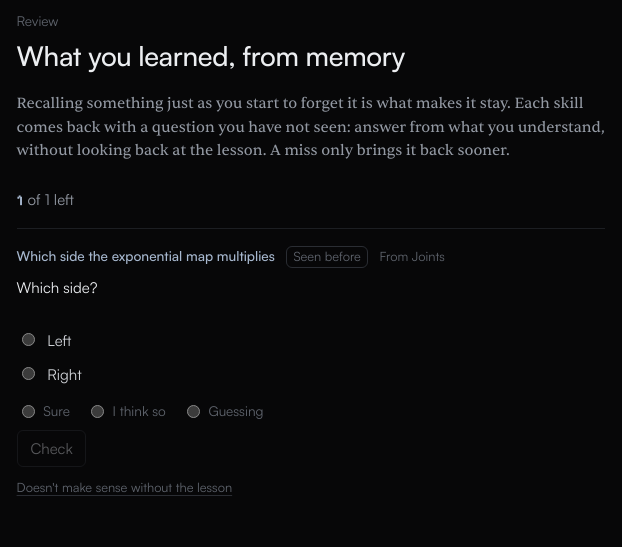
Test: Review › flags a question whose answer could not be saved, with no answer to withdraw
Click the radio button labelled "Right". click: (28, 374)
box: [22,367,35,380]
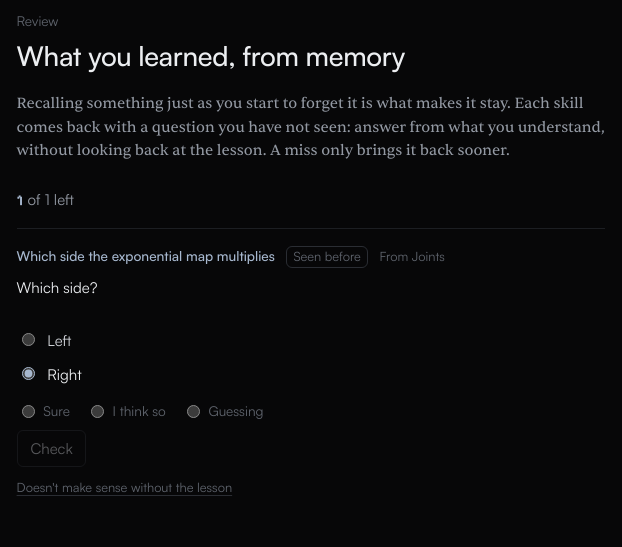
Click the radio button labelled "Sure". click: (28, 412)
box: [22,405,35,418]
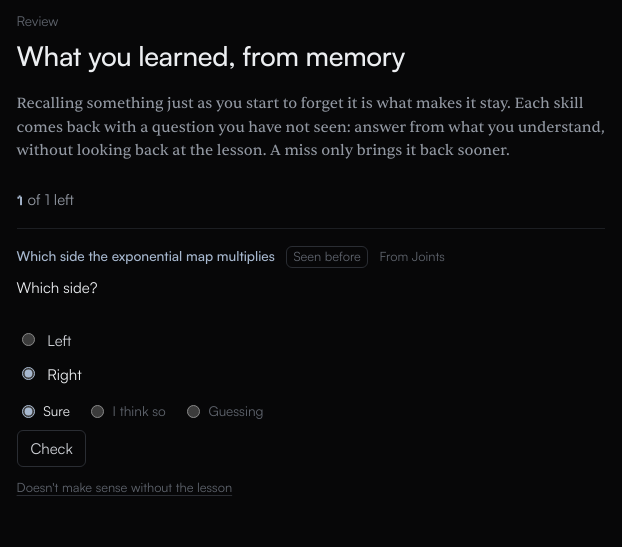
Click the button "Check". click: (52, 448)
box: [17,430,86,467]
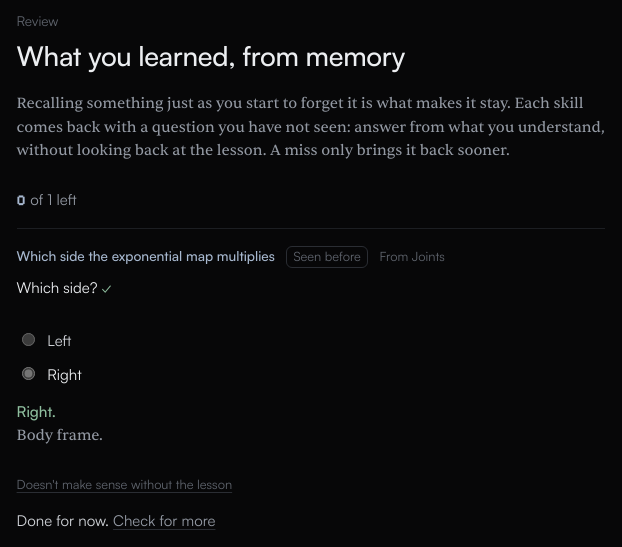
Click the button "Doesn't make sense without the lesson". click: (124, 484)
box: [17,475,232,494]
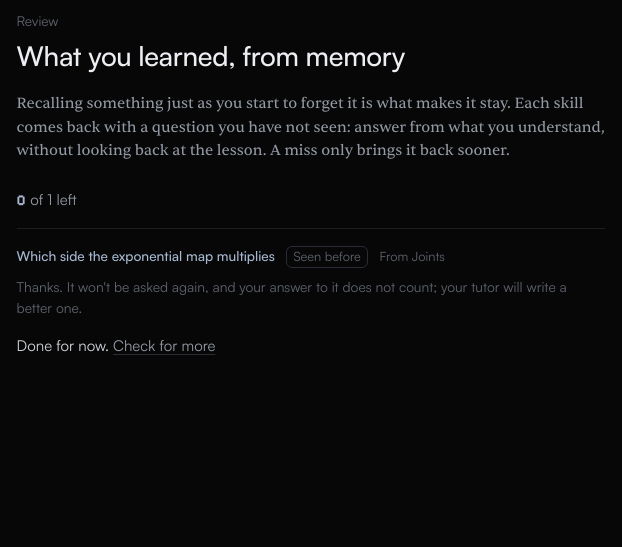
Expected: the text "won't be asked again" is shown, [17,278,205,295]
